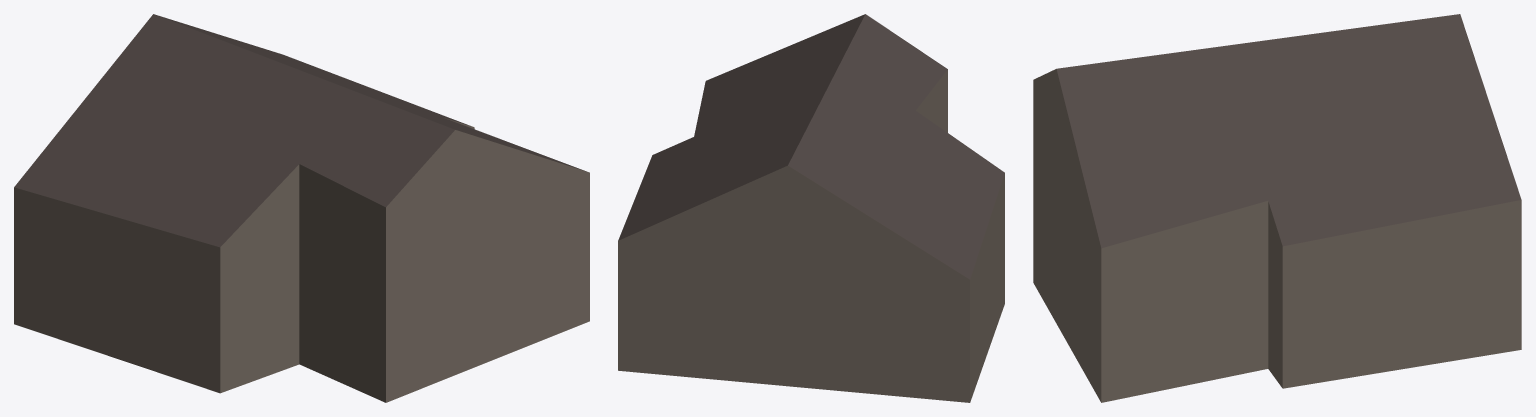
3 views of the same model, side by side, from view 1: azimuth 30°, elevation 25°; view 2: azimuth 150°, elevation 25°; view 3: azimuth 270°, elevation 25° (orthographic). The views are drawn at different scales.
Parts seen in each view (by area): view 1: HP-w1512914117; view 2: HP-w1512914117; view 3: HP-w1512914117.
Part boxes in pixels (x1,y1,x2,y2): HP-w1512914117: [14, 14, 589, 402]; HP-w1512914117: [618, 14, 1004, 402]; HP-w1512914117: [1033, 14, 1521, 402].
Size of the model in its own units: 19.94 by 10.75 by 18.65.
